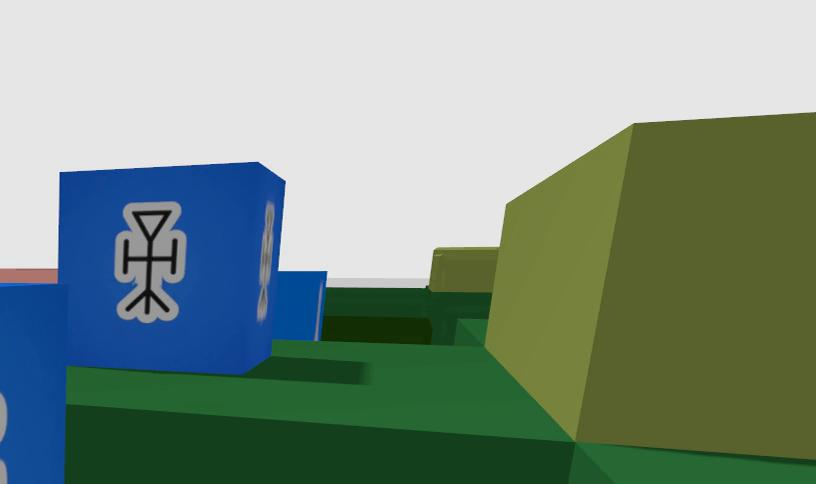KFS_REAL: (58, 162, 285, 374), (0, 286, 65, 484), (115, 203, 185, 322), (115, 204, 185, 322), (272, 270, 326, 340), (0, 395, 7, 440), (0, 461, 5, 484)
